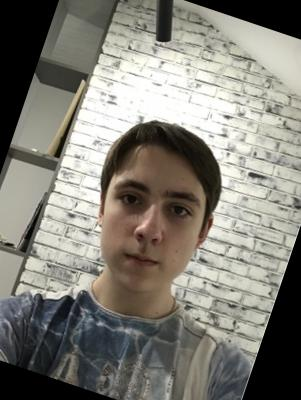without_mask: (80, 162, 214, 306)
